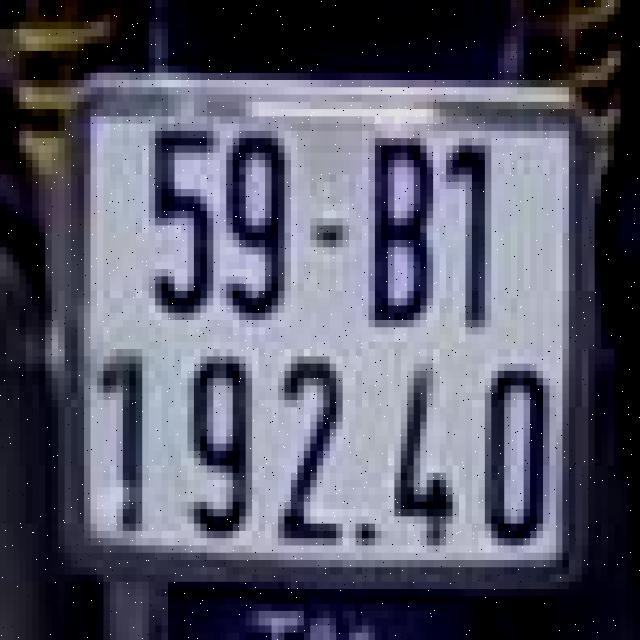0: (475, 360, 559, 556)
1: (71, 328, 162, 546), (436, 124, 501, 342)
2: (272, 342, 356, 553)
4: (372, 353, 456, 556)
5: (139, 113, 217, 331)
9: (168, 335, 259, 560), (214, 102, 298, 320)
B: (366, 131, 436, 327)
